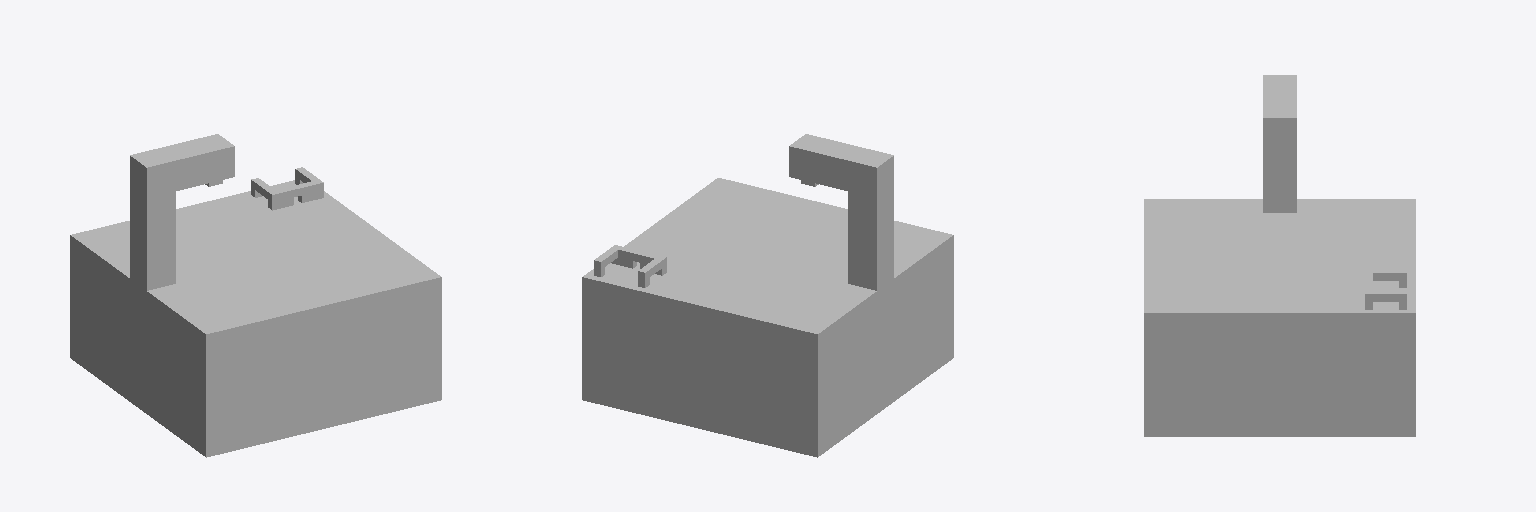
File: part maker.obj
The picture shows the model from 3 angles: view 1: azimuth 30°, elevation 25°; view 2: azimuth 150°, elevation 25°; view 3: azimuth 270°, elevation 25°; orthographic projection.
Parts seen in each view (by area): view 1: object 1; view 2: object 1; view 3: object 1.
Part boxes in pixels (x1,y1,x2,y2): object 1: (70, 134, 441, 457); object 1: (582, 134, 953, 457); object 1: (1144, 75, 1415, 436).
Bounding box in the file's own units: 3.2 × 3.2 × 3.2.